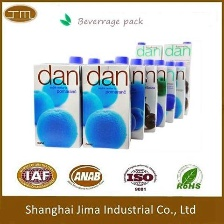carton: (28, 53, 83, 152), (80, 53, 133, 151), (162, 36, 201, 132), (124, 57, 145, 142), (139, 56, 158, 134), (170, 58, 187, 128), (153, 56, 168, 129), (162, 58, 179, 122), (132, 37, 162, 61)
